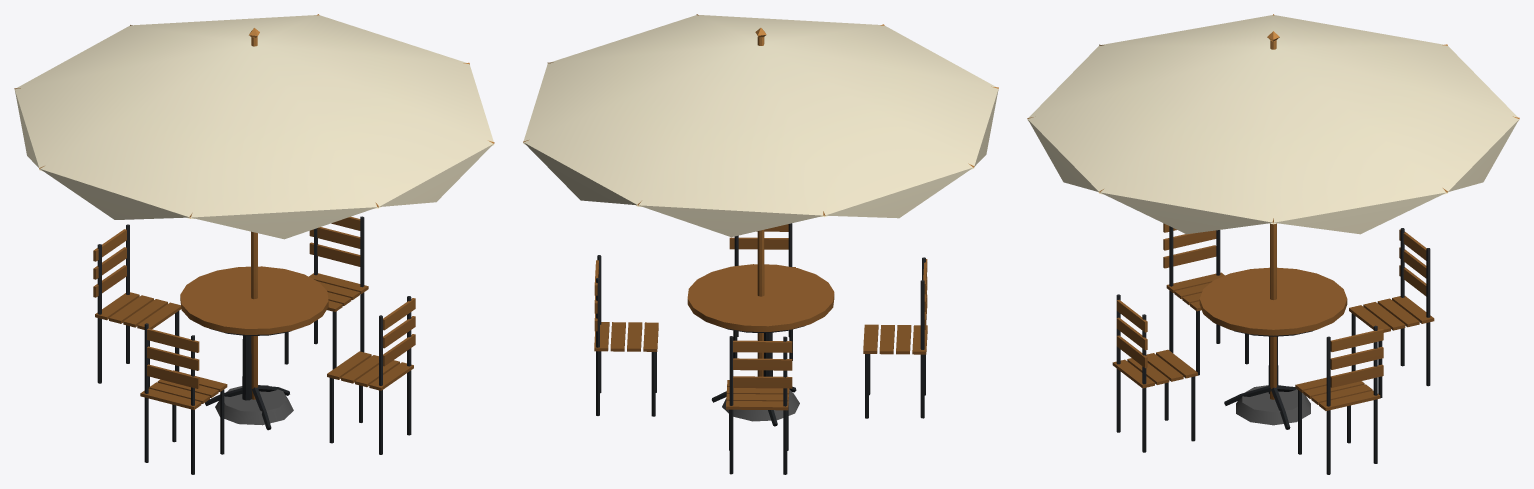
File: Parasol_Table.fbx
The picture shows the model from 3 angles, left to right: view 1: azimuth 30°, elevation 25°; view 2: azimuth 150°, elevation 25°; view 3: azimuth 270°, elevation 25°; orthographic projection.
Visible parts, largest first — view 1: Parasol_Table_LOD0; view 2: Parasol_Table_LOD0; view 3: Parasol_Table_LOD0.
Boxes of the visible parts, left/top/right/bottom form: Parasol_Table_LOD0: left=14, top=14, right=494, bottom=474; Parasol_Table_LOD0: left=523, top=14, right=998, bottom=474; Parasol_Table_LOD0: left=1027, top=14, right=1519, bottom=474.
Size of what is drawn, in the model's own units: 3 by 2.55 by 3.
1 material, 1 textured.
